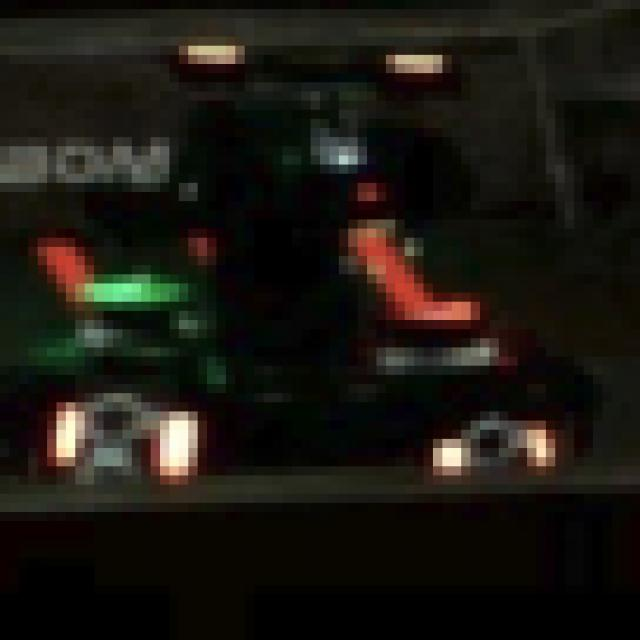Rs: (57, 402, 207, 485)
